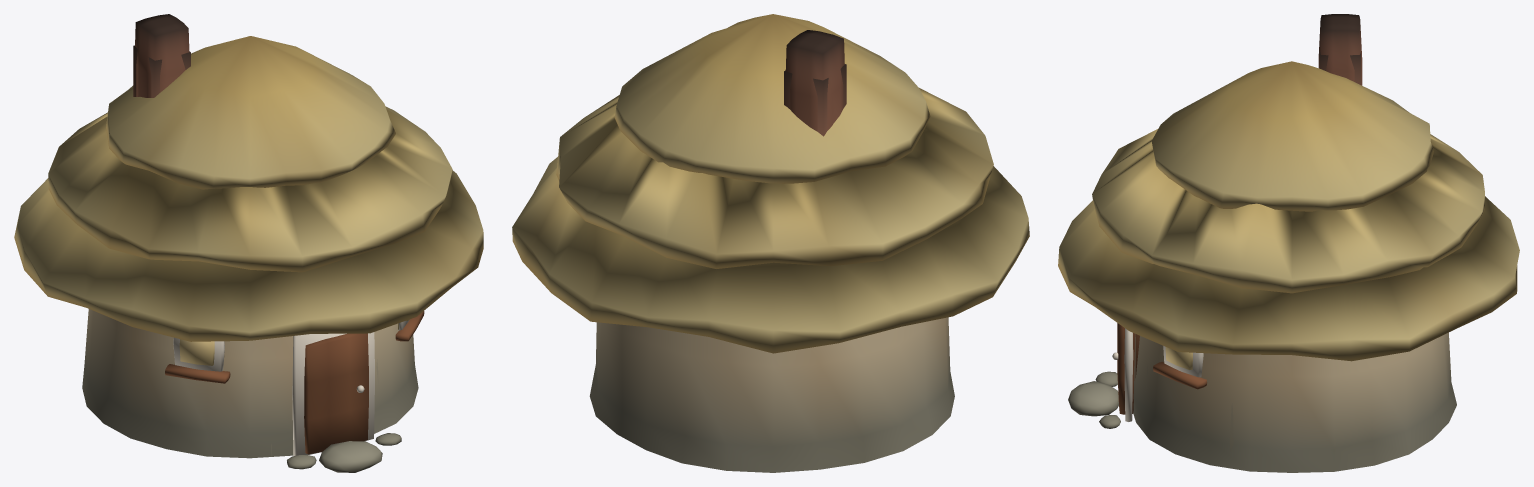
File: hut.glb
3 renders of one model, left to right at view 1: azimuth 30°, elevation 25°; view 2: azimuth 150°, elevation 25°; view 3: azimuth 270°, elevation 25°, orthographic. The views are drawn at different scales.
Parts seen in each view (by area): view 1: hut_hi, hut_lo; view 2: hut_hi, hut_lo; view 3: hut_hi, hut_lo.
Part boxes in pixels (left/top/right/bottom): hut_hi: left=14, top=14, right=483, bottom=472; hut_lo: left=133, top=45, right=398, bottom=456; hut_hi: left=512, top=14, right=1029, bottom=472; hut_lo: left=784, top=64, right=846, bottom=136; hut_hi: left=1058, top=14, right=1519, bottom=472; hut_lo: left=1135, top=51, right=1360, bottom=451.
Bounding box in the file's own units: 4.06 × 3.44 × 4.02.
